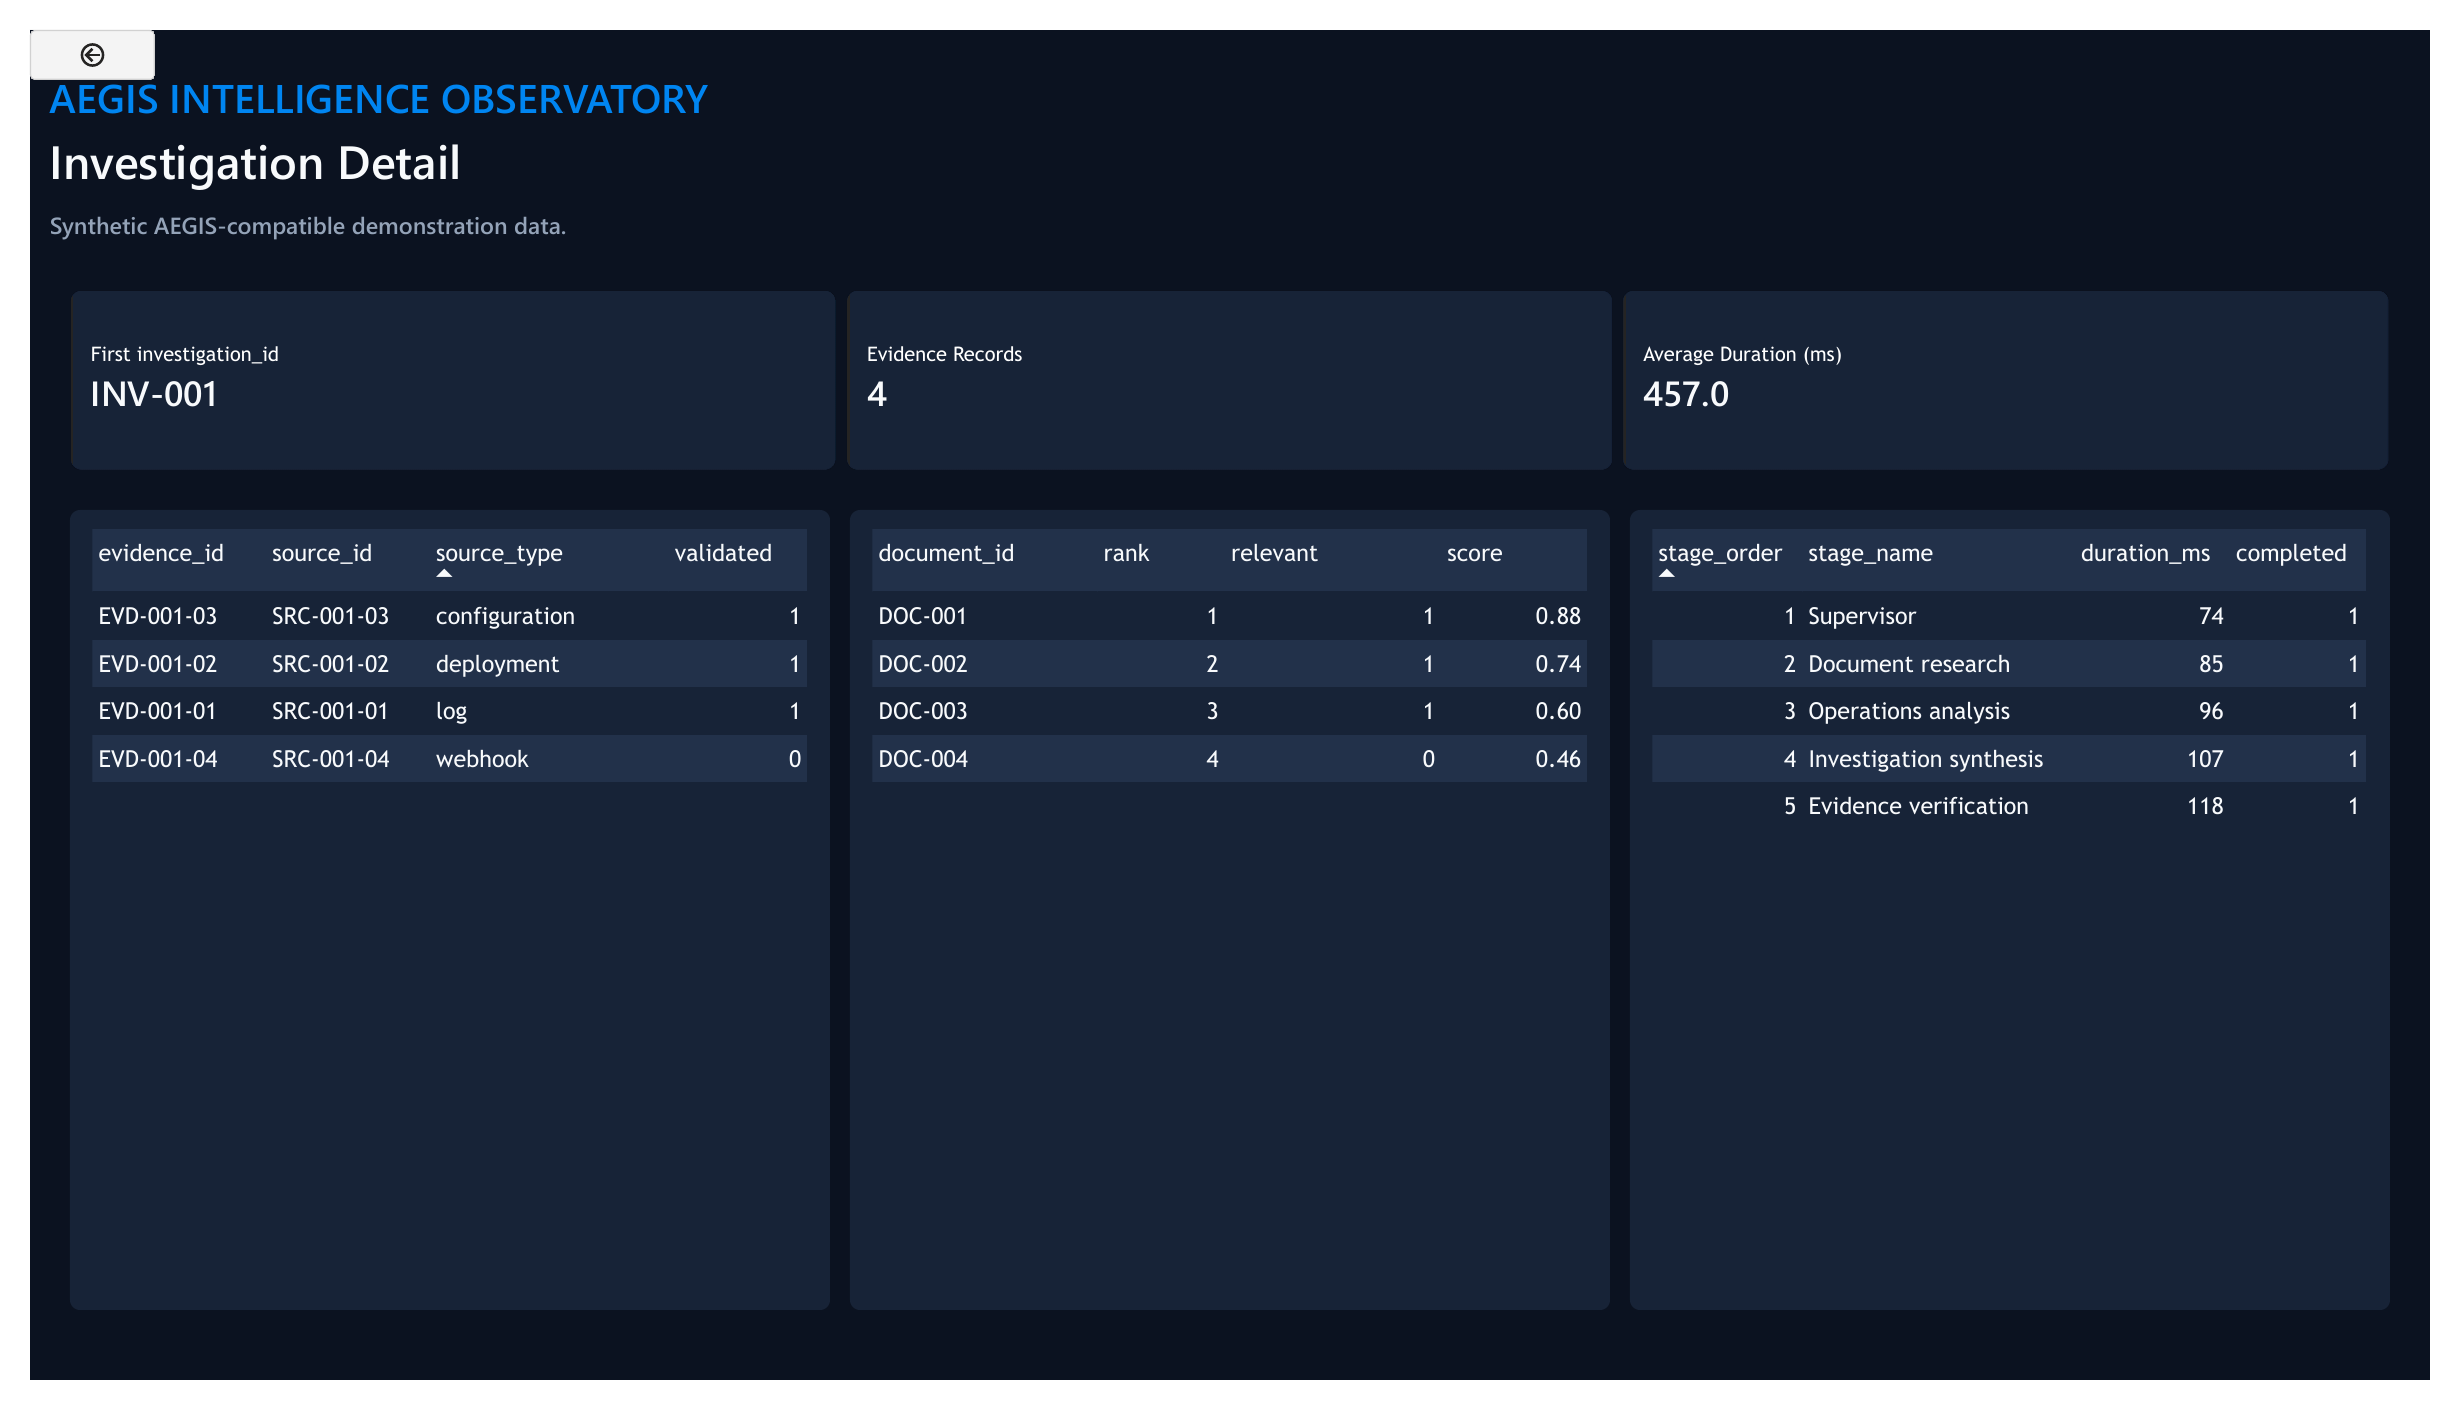

The dashboard page shown, as its layout file describes it:
{"tool":"powerbi","page":{"name":"Investigation Detail","canvas":[1920,1080],"ordinal":4},"visuals":[{"type":"cardVisual","fields":{"Data":["Min(investigations.investigation_id)","evidence_records.Evidence Records","investigations.Average Duration (ms)"]},"box":[32,208,1856,144],"z":0},{"type":"textbox","box":[16,32,544,48],"z":1000},{"type":"textbox","box":[16,144,416,32],"z":2000},{"type":"textbox","box":[16,80,336,56],"z":3000},{"type":"tableEx","title":"Investigation by Retrieval Mode","fields":{"Values":["evidence_records.evidence_id","evidence_records.source_id","evidence_records.source_type","evidence_records.validated"]},"box":[32,384,608,640],"z":6001},{"type":"tableEx","title":"Investigation by Retrieval Mode","fields":{"Values":["retrieval_events.document_id","retrieval_events.rank","retrieval_events.relevant","retrieval_events.score"]},"box":[656,384,608,640],"z":6002},{"type":"tableEx","title":"Investigation by Retrieval Mode","fields":{"Values":["stage_events.stage_order","stage_events.stage_name","stage_events.duration_ms","stage_events.completed"]},"box":[1280,384,608,640],"z":6003},{"type":"actionButton","box":[0,0,100,40],"z":6004}]}

Visuals, with their boxes on the page's 1920x1080 design canvas (x1, y1, x2, y2). These are canvas units, not pixel positions in the 2460x1410 screenshot, which may show the page scaled, cropped or inside an application window:
cardVisual - Min(investigations.investigation_id) x evidence_records.Evidence Records: box(32, 208, 1888, 352)
textbox: box(16, 32, 560, 80)
textbox: box(16, 144, 432, 176)
textbox: box(16, 80, 352, 136)
"Investigation by Retrieval Mode" tableEx: box(32, 384, 640, 1024)
"Investigation by Retrieval Mode" tableEx: box(656, 384, 1264, 1024)
"Investigation by Retrieval Mode" tableEx: box(1280, 384, 1888, 1024)
actionButton: box(0, 0, 100, 40)
